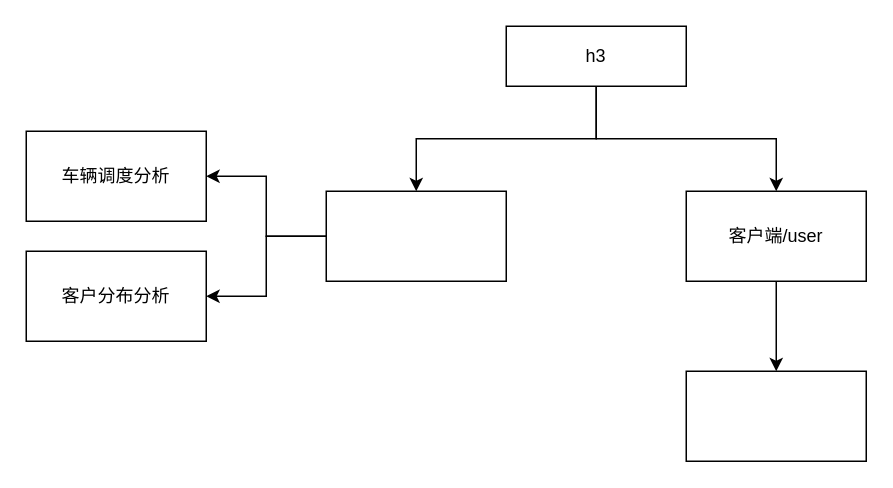
Image size: 893x488. Some labels were removed from this diagram. Each missing label, with the centre of its shape:
"BO/运营" goes at [415,235].
"拼单？订单连结？" goes at [775,415].
